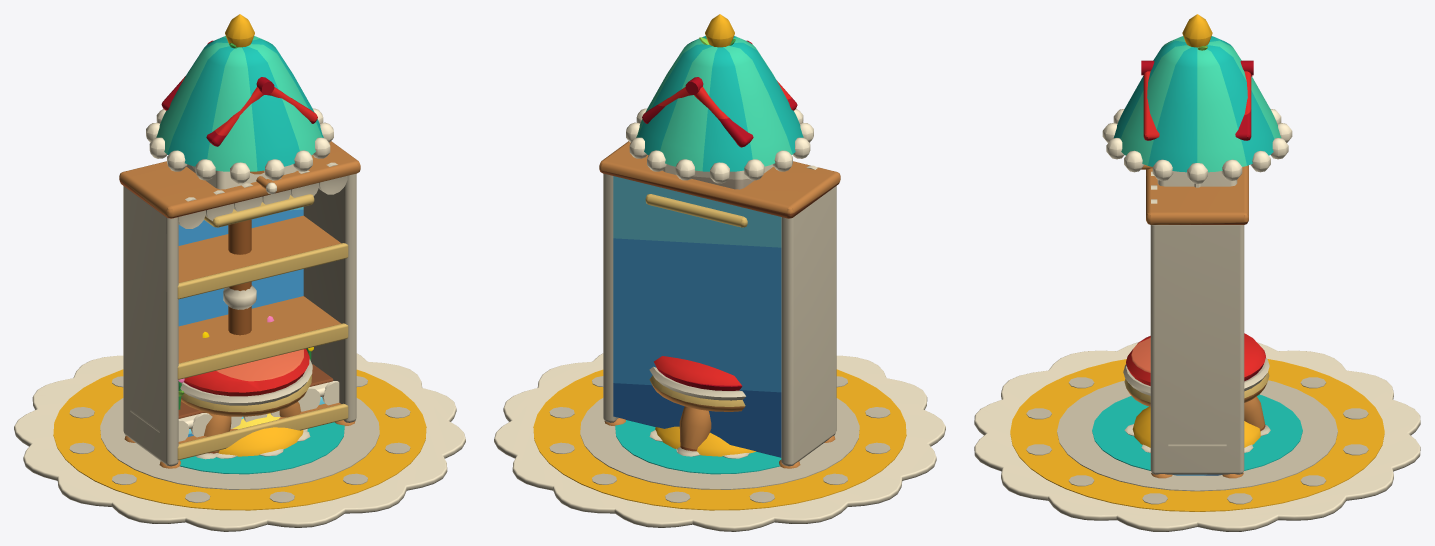
File: items_home-nook.glb
3 views of the same model, side by side, from view 1: azimuth 30°, elevation 25°; view 2: azimuth 150°, elevation 25°; view 3: azimuth 270°, elevation 25° (orthographic).
Parts seen in each view (by area): view 1: fur-shelf, fur-rug, fur-lamp, fur-stool, fur-birdhouse, fur-planter; view 2: fur-shelf, fur-rug, fur-lamp, fur-stool, fur-birdhouse; view 3: fur-rug, fur-shelf, fur-lamp, fur-stool, fur-birdhouse.
Part boxes in pixels (x1,y1,x2,y2): fur-shelf: (119,141,360,468); fur-rug: (14,353,465,531); fur-lamp: (146,14,333,456); fur-stool: (180,349,312,459); fur-birdhouse: (161,40,317,335); fur-planter: (130,316,339,441); fur-shelf: (599,141,840,468); fur-rug: (494,353,945,531); fur-lamp: (626,14,813,456); fur-stool: (649,356,745,456); fur-birdhouse: (642,37,797,227); fur-rug: (974,342,1420,531); fur-shelf: (1146,165,1248,478); fur-lamp: (1102,14,1292,447); fur-stool: (1123,333,1270,434); fur-birdhouse: (1141,46,1253,186).
Size of the model in its own units: 1.91 by 2 by 1.91.
